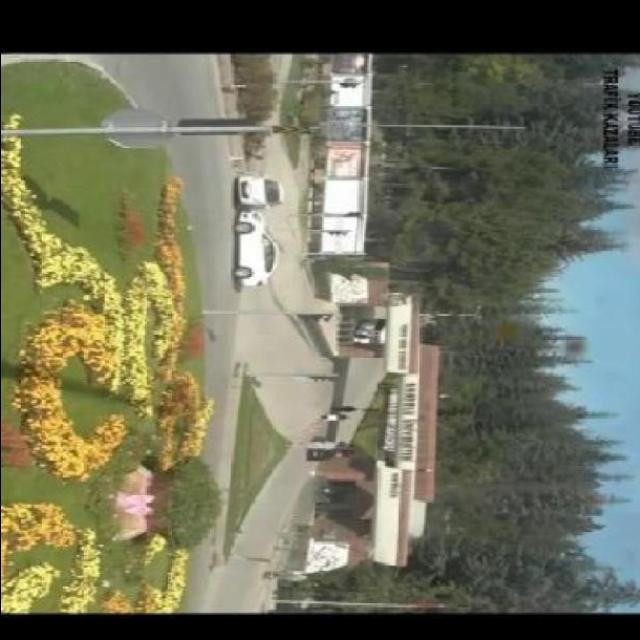accident: (224, 163, 298, 294)
